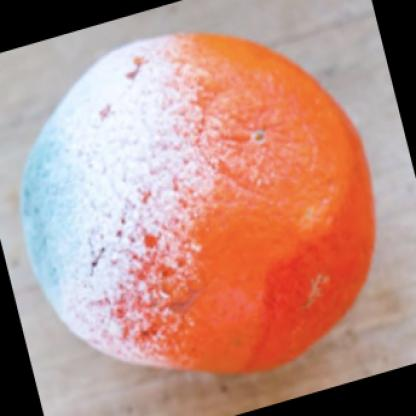rotten_orange: (22, 26, 383, 371)
